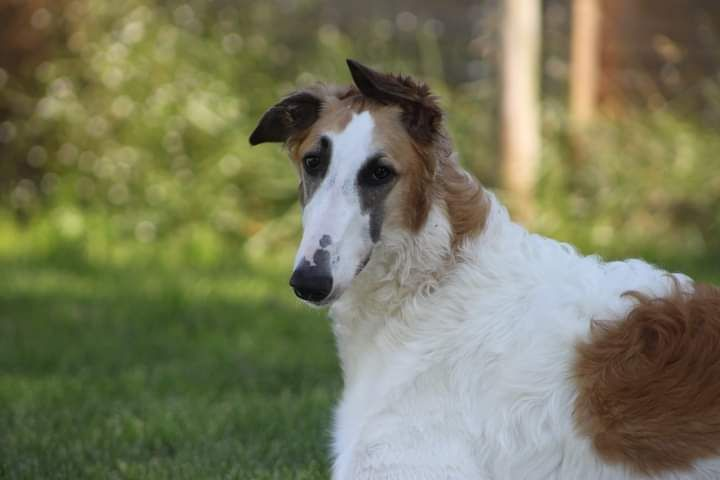borzoi: (234, 60, 719, 477)
